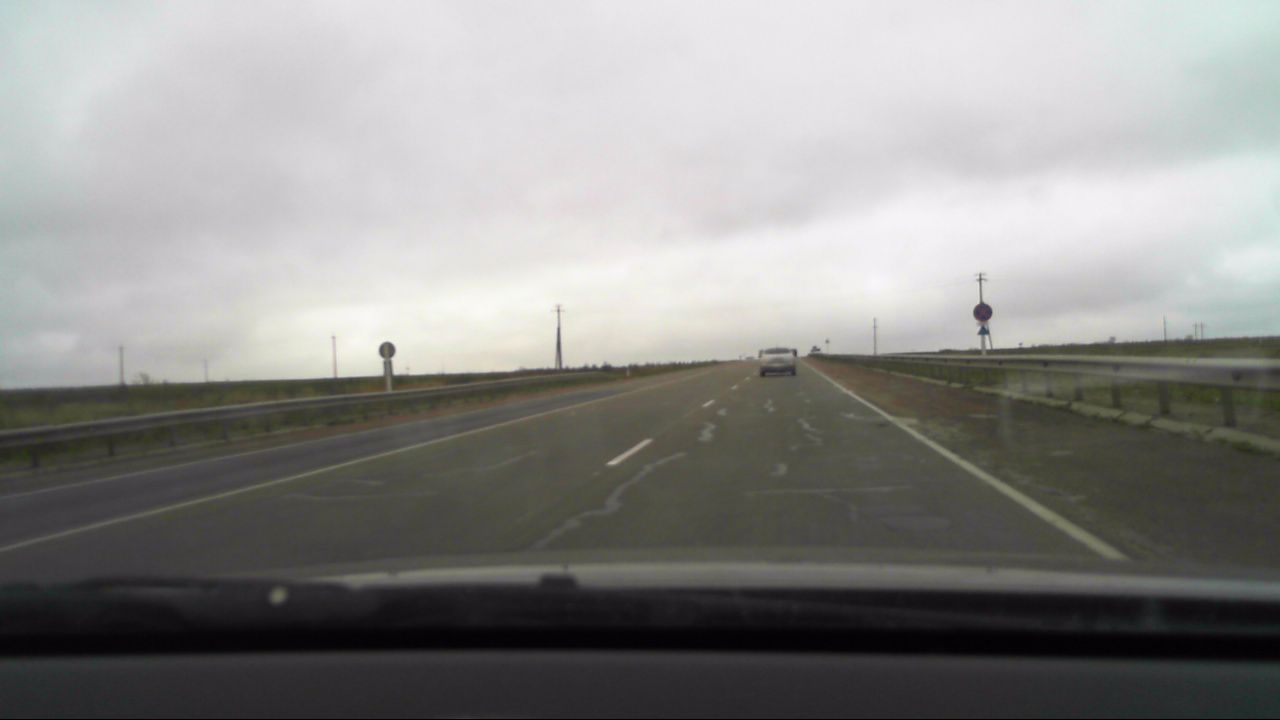No Parking: (972, 299, 995, 322)
